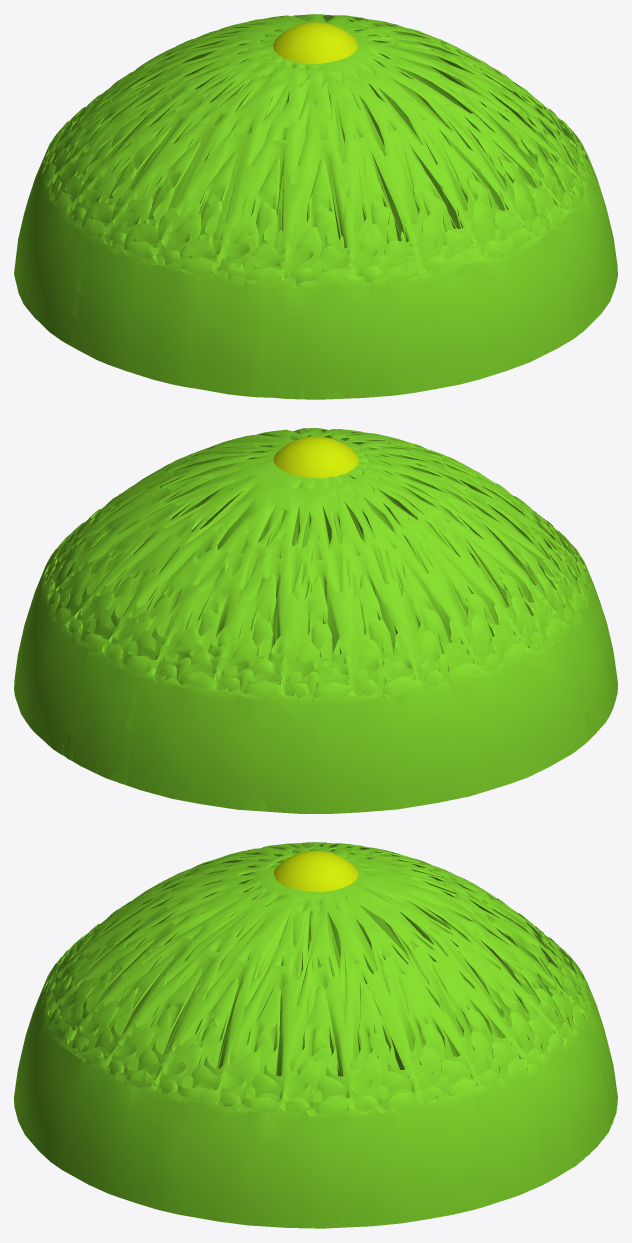
File: weirdflower.glb
The picture shows the model from 3 angles, top to bottom: view 1: azimuth 30°, elevation 25°; view 2: azimuth 150°, elevation 25°; view 3: azimuth 270°, elevation 25°; orthographic projection.
Parts seen in each view (by area): view 1: weirdflower; view 2: weirdflower; view 3: weirdflower.
Boxes of the visible parts, x1=… form: weirdflower: x1=14, y1=14, x2=617, y2=399; weirdflower: x1=14, y1=428, x2=617, y2=813; weirdflower: x1=14, y1=842, x2=617, y2=1228.
Bounding box in the file's own units: 0.6284 × 0.2814 × 0.6285.
